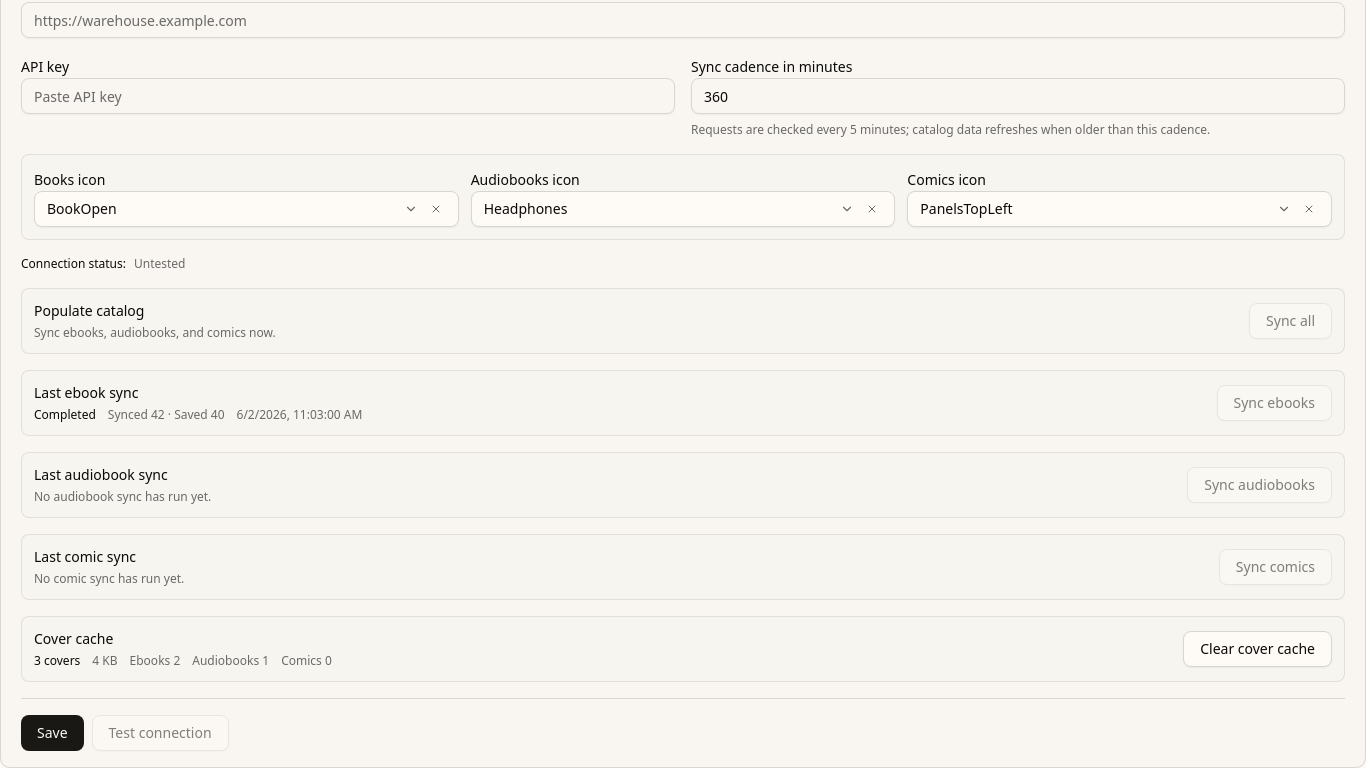
Test: WarehouseAdminSettings › clears the cover cache and updates the visible status
(page scrolled)
Click the button "Clear cover cache" at (1258, 649), box [1183, 631, 1332, 667]
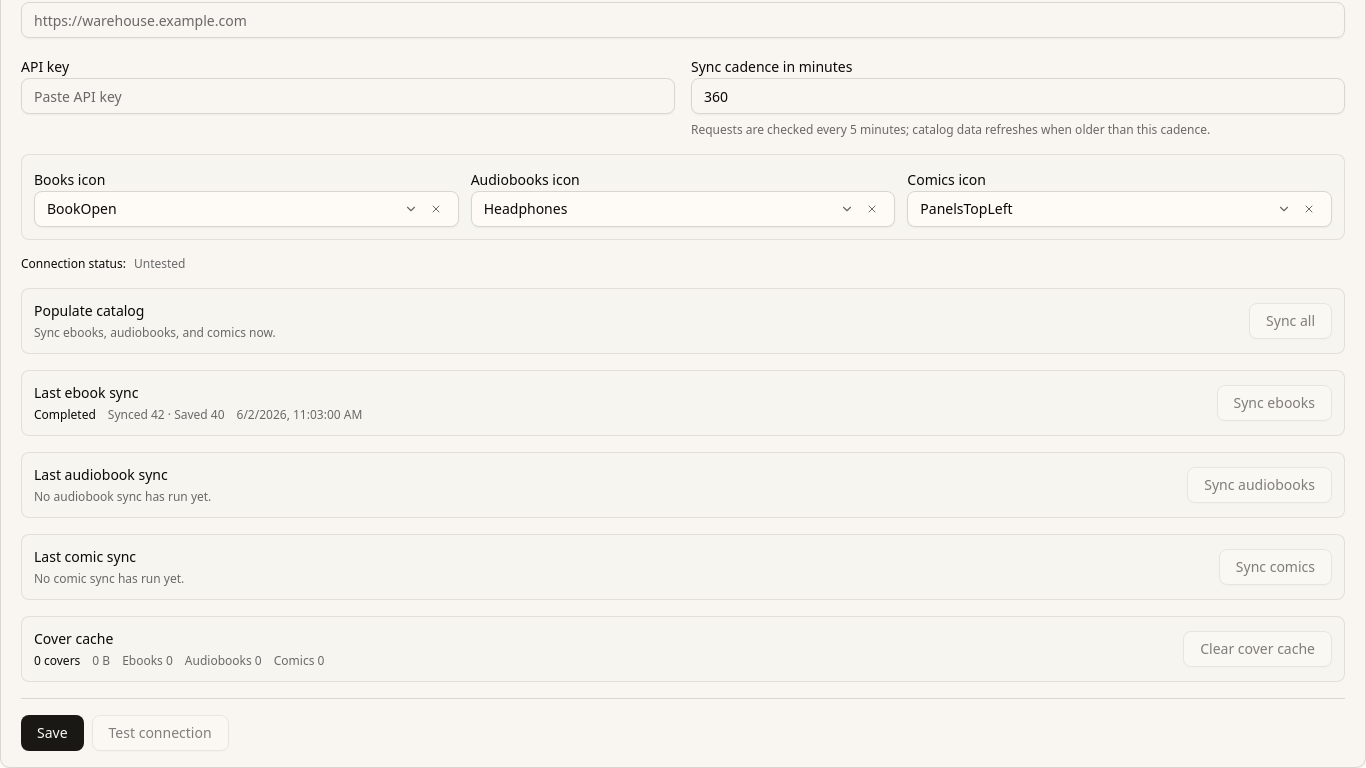
Now the text "0 covers" is shown, box [34, 653, 80, 669]
Now the text "0 B" is shown, box [92, 653, 110, 669]
